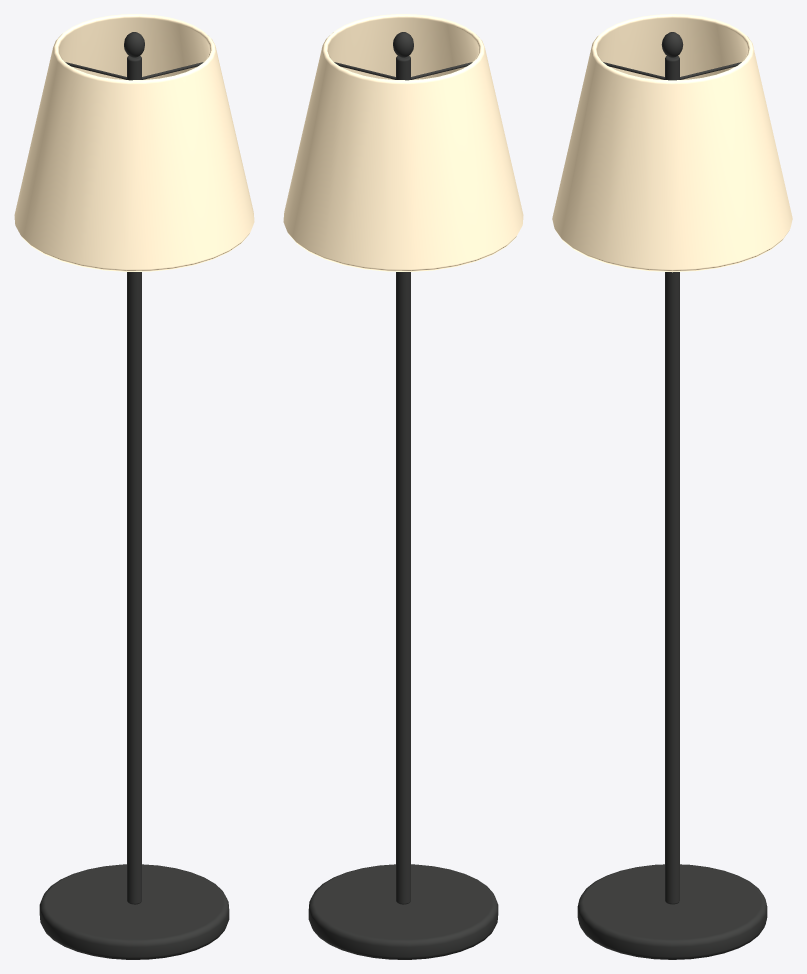
The model's file is lamp.glb.
3 renders of one model, left to right at view 1: azimuth 30°, elevation 25°; view 2: azimuth 150°, elevation 25°; view 3: azimuth 270°, elevation 25°, orthographic.
Parts seen in each view (by area): view 1: SM_lamp; view 2: SM_lamp; view 3: SM_lamp.
Part boxes in pixels (x1,y1,x2,y2): SM_lamp: (14,14,254,959); SM_lamp: (283,14,523,959); SM_lamp: (552,14,792,959).
Bounding box in the file's own units: 0.38 × 1.55 × 0.38.
